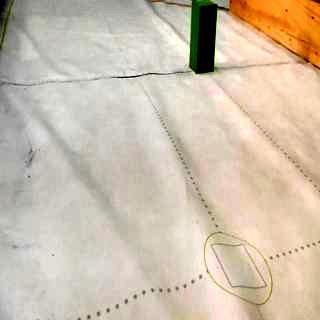greenbox: (188, 0, 218, 72)
